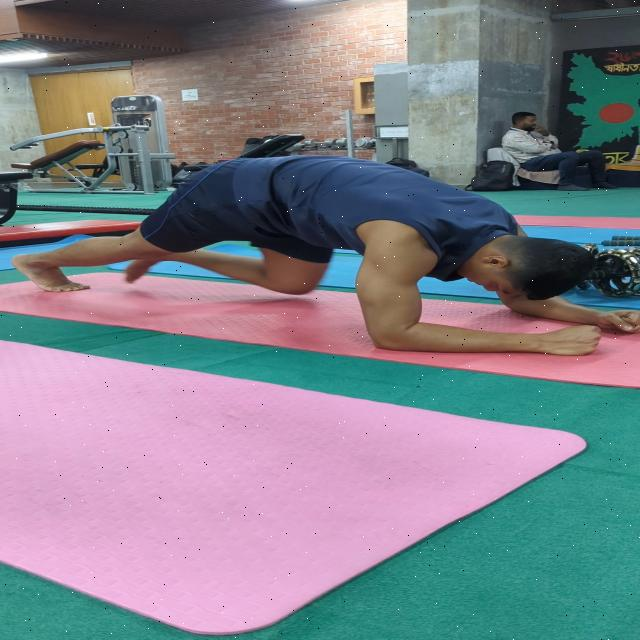Normal_MountainClimbers: (4, 142, 640, 362)
